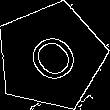O_SE: (17, 23, 85, 90)
